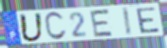2: (69, 11, 89, 39)
C: (43, 11, 68, 42)
E: (89, 8, 115, 39), (135, 6, 161, 34)
I: (121, 6, 133, 37)
U: (18, 12, 45, 43)
